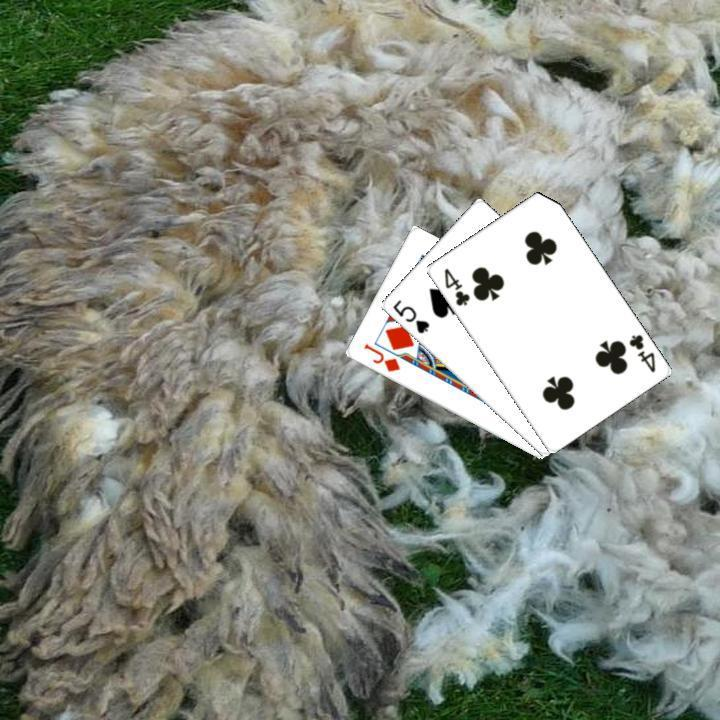4: (624, 330, 657, 375), (439, 264, 472, 308)
5: (388, 295, 431, 336)
J: (359, 339, 402, 374)
